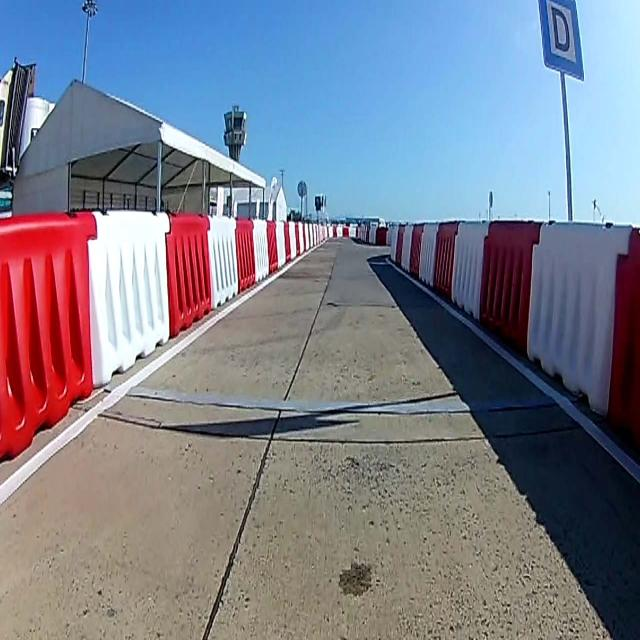durak: (538, 1, 584, 78)
